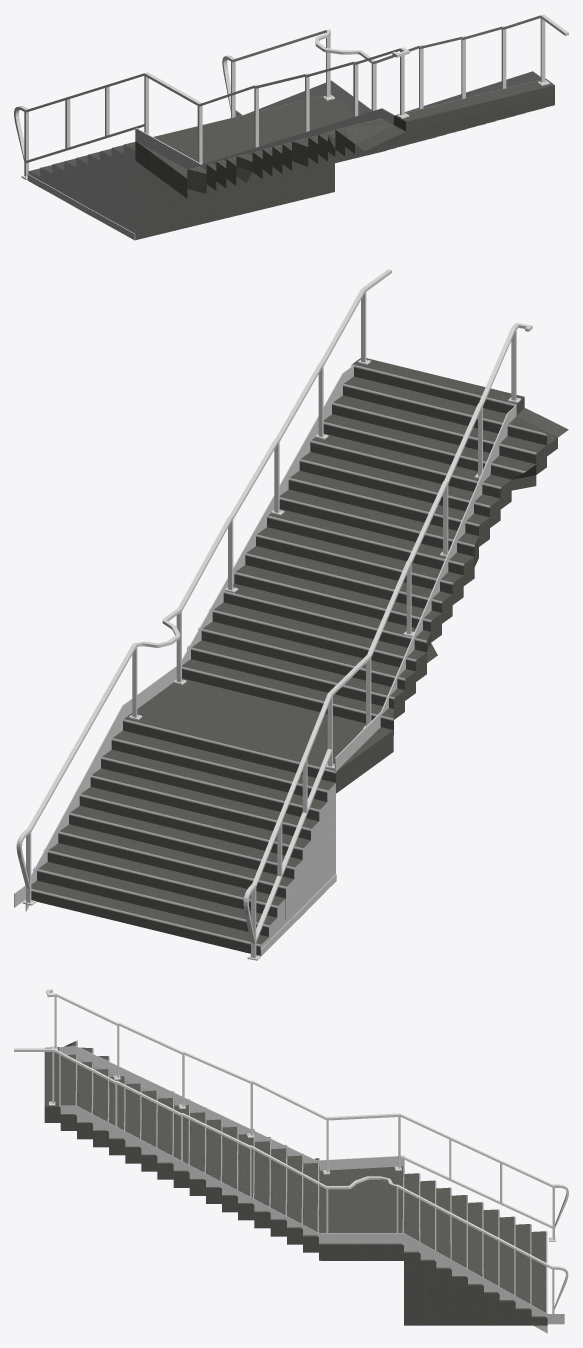
The model's file is 0_to_-1_stair_1_sized.glb.
3 views of the same model, one above another, from view 1: azimuth 30°, elevation 25°; view 2: azimuth 150°, elevation 25°; view 3: azimuth 270°, elevation 25° (orthographic). The views are drawn at different scales.
Parts seen in each view (by area): view 1: Cube_050, Cube_055; view 2: Cube_050, Cube_055; view 3: Cube_050, Cube_055.
Boxes of the visible parts, box(x1,y1,x2,y2) form: Cube_050: box(27, 71, 554, 240); Cube_055: box(14, 14, 568, 179); Cube_050: box(14, 358, 568, 956); Cube_055: box(16, 269, 532, 960); Cube_050: box(44, 1040, 564, 1333); Cube_055: box(14, 989, 568, 1313).
Size of what is drawn, in the model's own units: 3.63 by 5.49 by 9.77.
5 materials, 2 textured.
